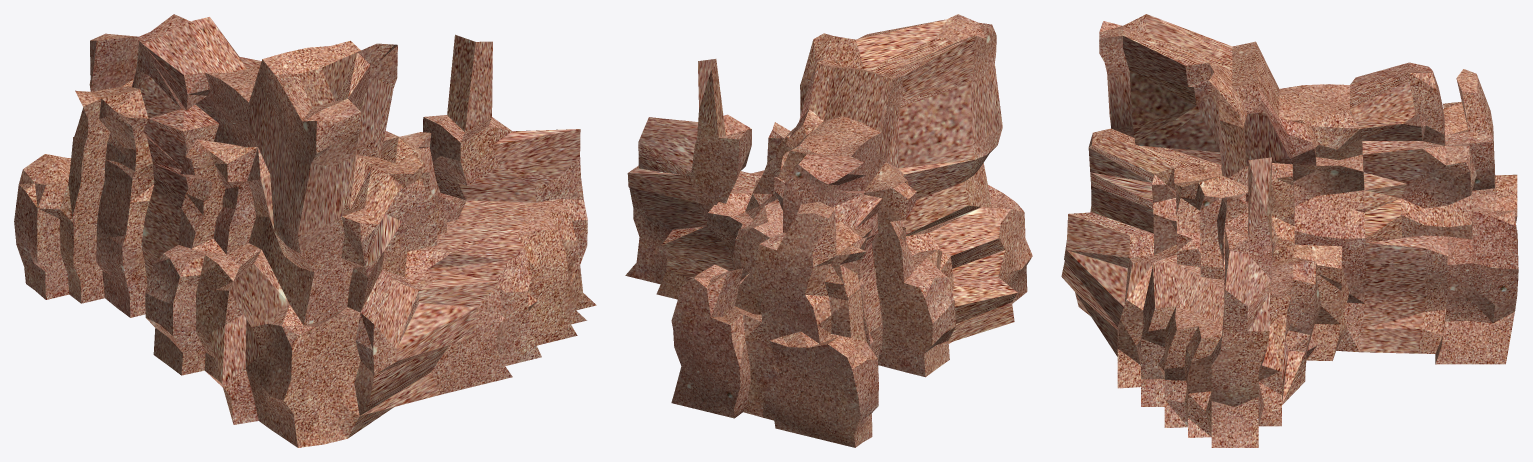
File: Mountain Sand Test2.fbx
3 renders of one model, left to right at view 1: azimuth 30°, elevation 25°; view 2: azimuth 150°, elevation 25°; view 3: azimuth 270°, elevation 25°, orthographic. The views are drawn at different scales.
Parts seen in each view (by area): view 1: Plane; view 2: Plane; view 3: Plane.
Part boxes in pixels (box(x1,y1,x2,y2)): Plane: box(14, 14, 596, 447); Plane: box(625, 14, 1032, 447); Plane: box(1061, 14, 1518, 447).
Bounding box in the file's own units: 888 × 654 × 949.
